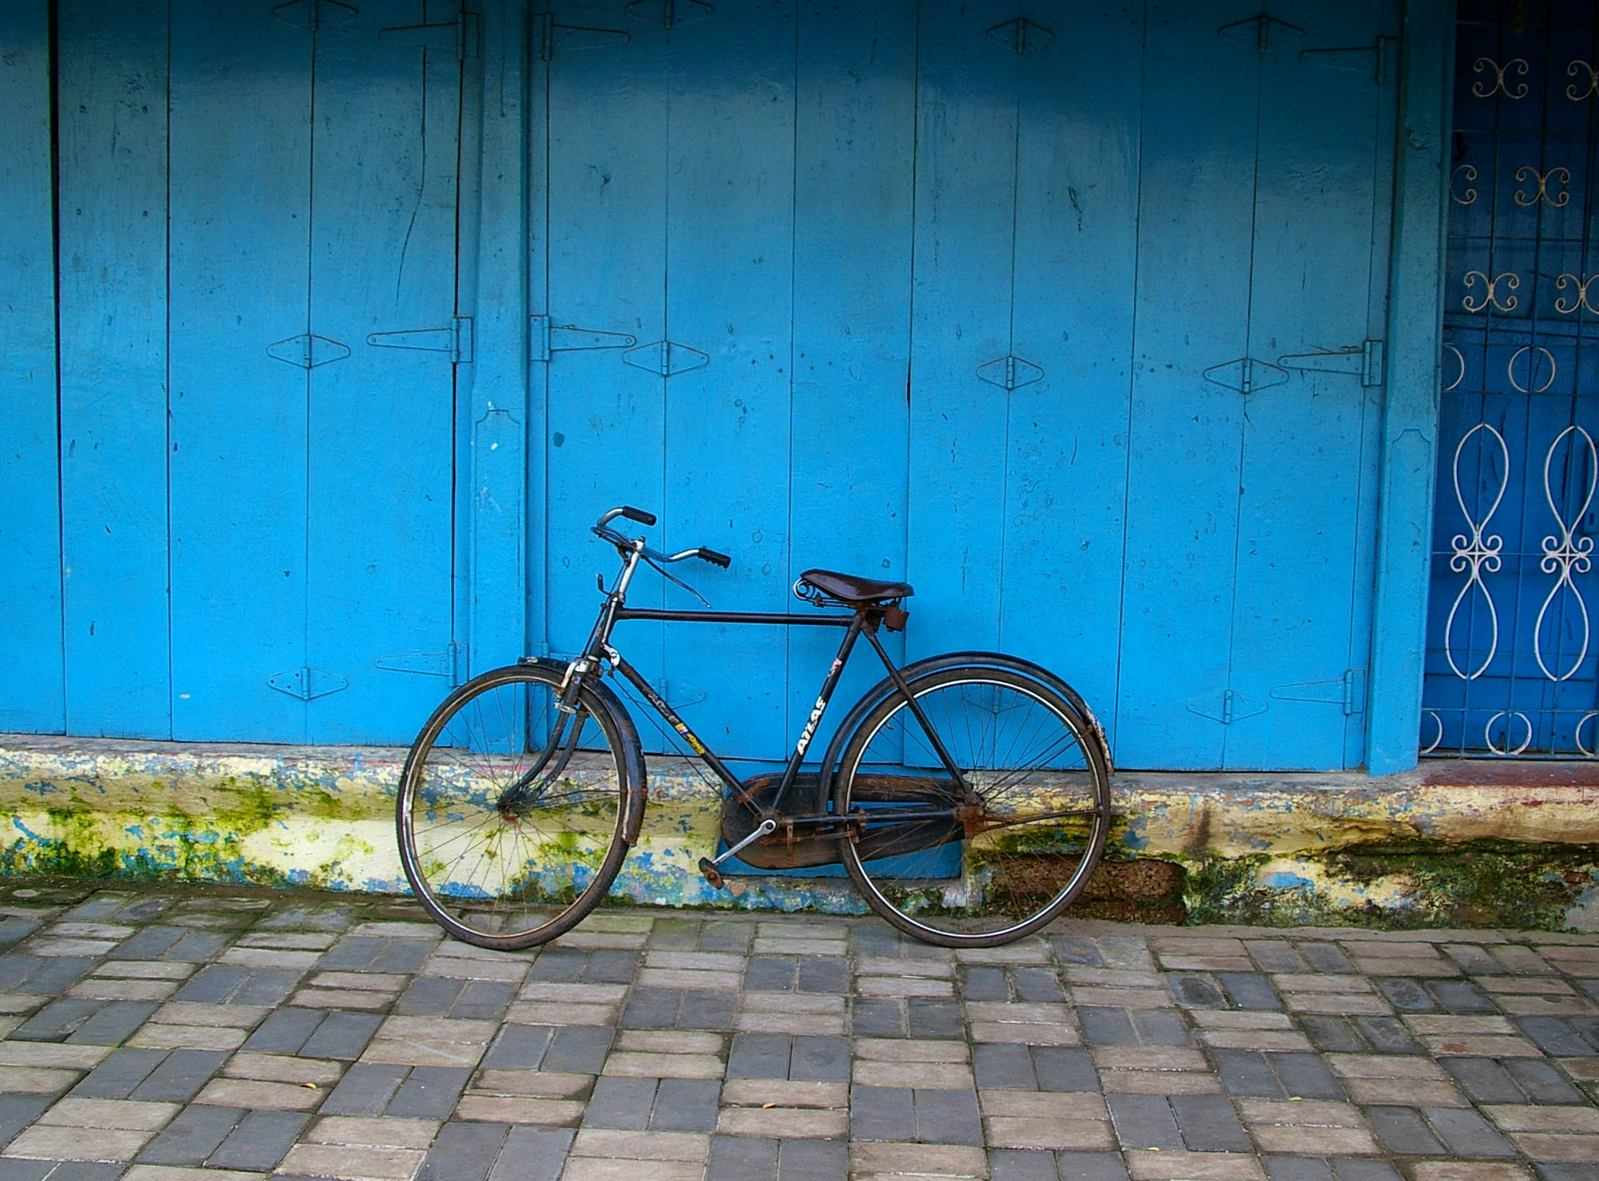Bicycle: (60, 84, 1529, 1121)
